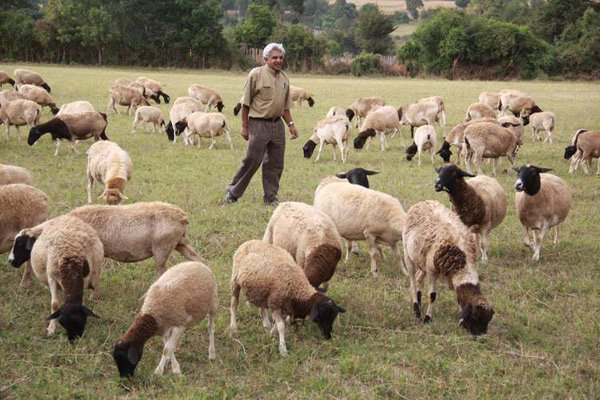sheep: (110, 245, 224, 387), (406, 213, 501, 351), (50, 184, 205, 262), (228, 238, 329, 342), (316, 158, 400, 275), (28, 227, 101, 359), (431, 157, 506, 263), (261, 201, 346, 284), (512, 159, 572, 268), (79, 141, 151, 201), (489, 82, 557, 133), (8, 171, 60, 236), (347, 101, 409, 155), (42, 93, 105, 146), (149, 81, 219, 127), (463, 124, 516, 178), (49, 106, 115, 146), (401, 88, 448, 137), (5, 66, 56, 111), (306, 111, 349, 154), (187, 114, 241, 148), (10, 88, 46, 136), (111, 81, 151, 114), (568, 124, 600, 160), (464, 96, 487, 127)
